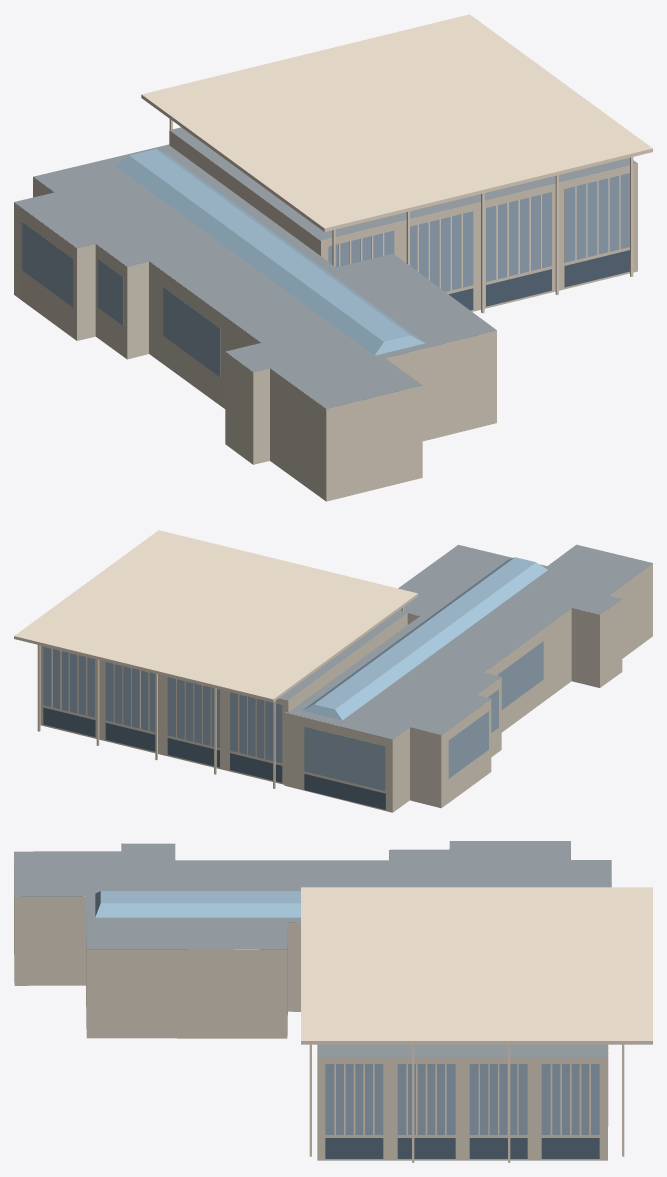
Rendered from chi-art-institute-modern-wing.glb.
3 views of the same model, one above another, from view 1: azimuth 30°, elevation 25°; view 2: azimuth 150°, elevation 25°; view 3: azimuth 270°, elevation 25° (orthographic). The views are drawn at different scales.
Visible parts, largest first — view 1: Art Institute of Chicago, Modern Wing; view 2: Art Institute of Chicago, Modern Wing; view 3: Art Institute of Chicago, Modern Wing.
Part boxes in pixels (x1,y1,x2,y2): Art Institute of Chicago, Modern Wing: (14,14,652,501); Art Institute of Chicago, Modern Wing: (14,530,652,812); Art Institute of Chicago, Modern Wing: (14,841,652,1162).
Size of the model in its own units: 102 by 24.85 by 117.
